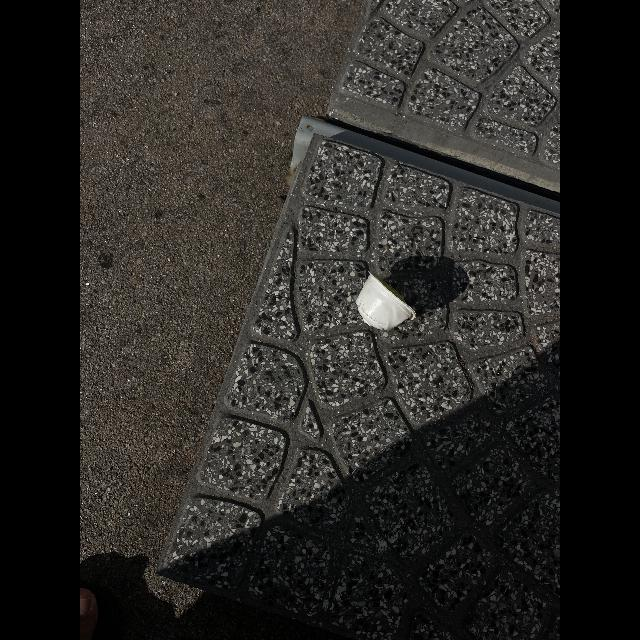damaged_capsule: (348, 266, 432, 338)
